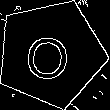O_N: (26, 26, 75, 81)
